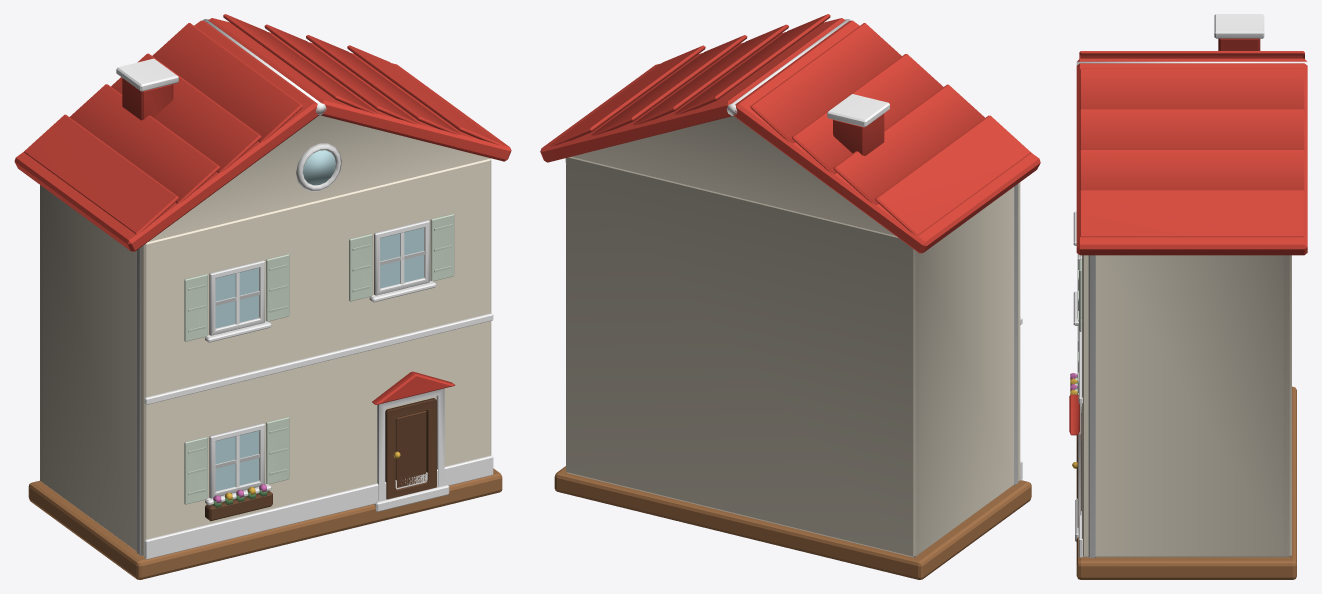
Rendered from dollHouse.glb.
3 renders of one model, left to right at view 1: azimuth 30°, elevation 25°; view 2: azimuth 150°, elevation 25°; view 3: azimuth 270°, elevation 25°, orthographic.
Visible parts, largest first — view 1: front_wall, body; view 2: body, front_wall; view 3: body, front_wall.
Part boxes in pixels (x1,y1,x2,y2): front_wall: (141, 158, 493, 559); body: (14, 14, 511, 579); body: (540, 14, 1040, 579); front_wall: (1018, 182, 1022, 481); body: (1076, 14, 1307, 579); front_wall: (1069, 211, 1088, 557).
Bounding box in the file's own units: 0.8391 × 0.9098 × 0.454.
